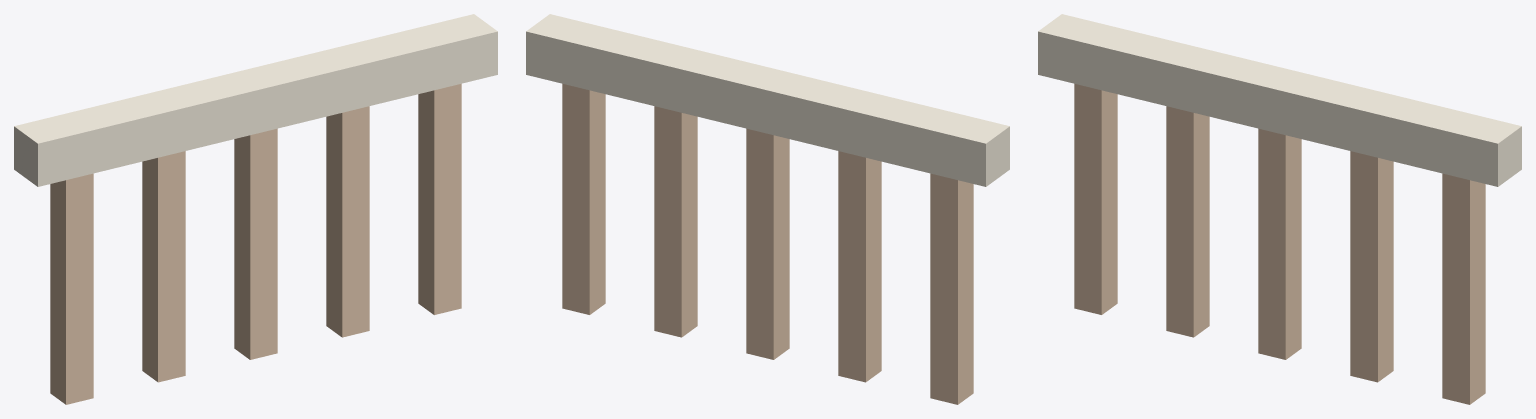
File: railing.glb
The picture shows the model from 3 angles, left to right: view 1: azimuth 30°, elevation 25°; view 2: azimuth 150°, elevation 25°; view 3: azimuth 330°, elevation 25°; orthographic projection.
Parts seen in each view (by area): view 1: spindle (×5), rail; view 2: spindle (×5), rail; view 3: spindle (×5), rail.
Part boxes in pixels (box(x1,y1,x2,y2)): spindle (×5): box(50, 83, 461, 404); rail: box(14, 14, 497, 186); spindle (×5): box(562, 83, 973, 404); rail: box(526, 14, 1009, 186); spindle (×5): box(1074, 83, 1485, 404); rail: box(1038, 14, 1521, 186).
Bounding box in the file's own units: 1 × 0.565 × 0.09.
